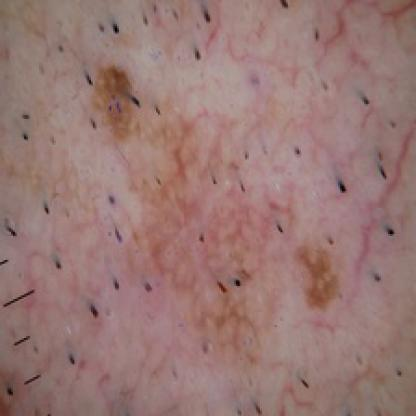malignant: (76, 54, 379, 358)
